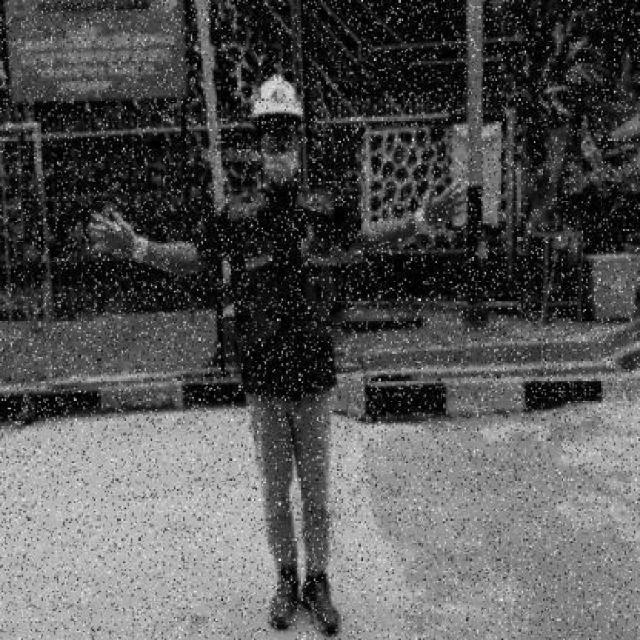Boots: (300, 569, 340, 637), (268, 563, 300, 632)
Gloves: (85, 211, 148, 267), (414, 179, 468, 236)
Helmet: (250, 74, 304, 121)
Mask: (264, 150, 301, 188)
Protective Glasses: (260, 120, 300, 140)
Vest: (230, 233, 344, 349)
